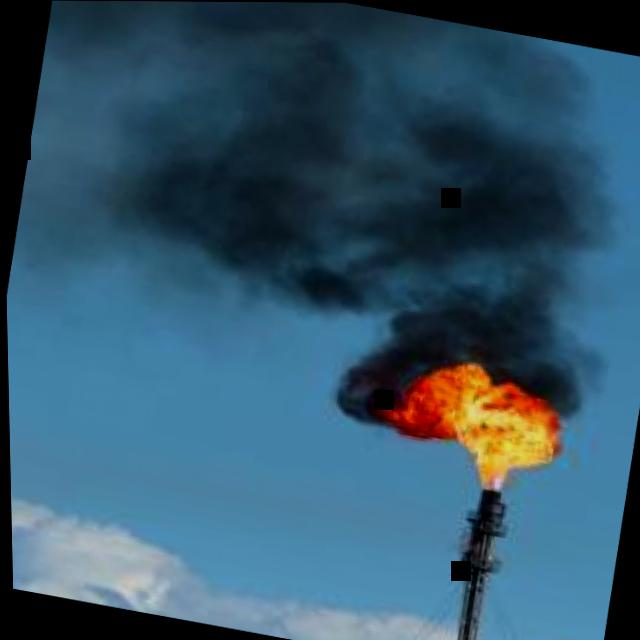fire: (372, 362, 560, 489)
smoke: (16, 0, 621, 428)
